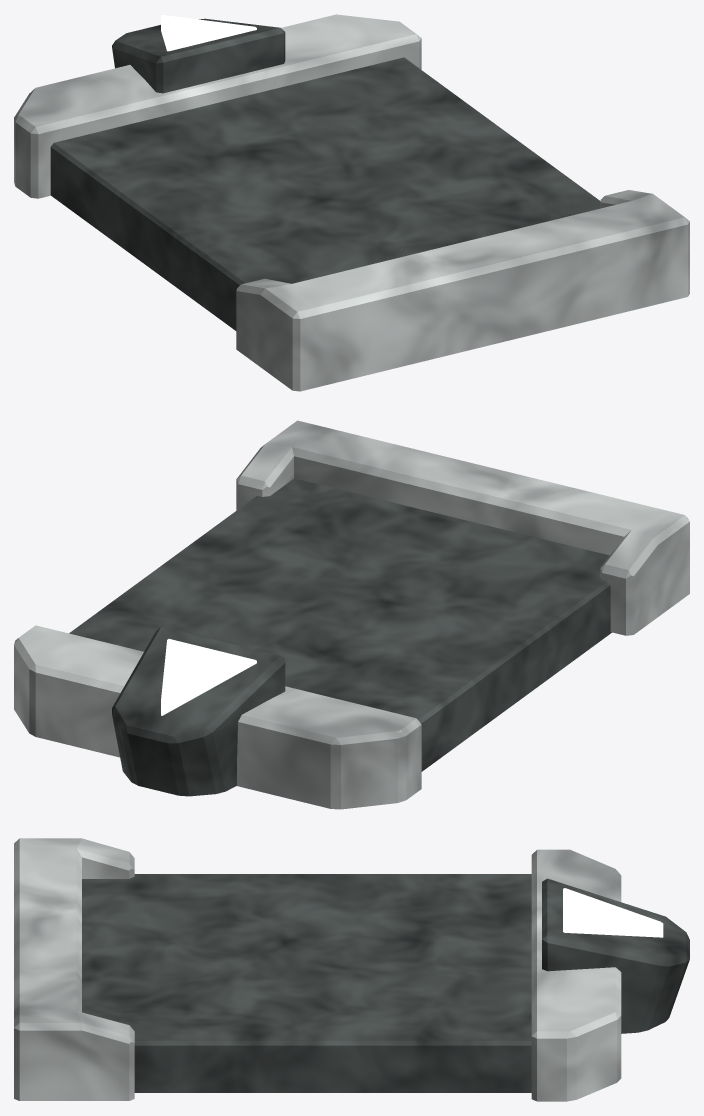
The model's file is white_baseplate.glb.
The picture shows the model from 3 angles, top to bottom: view 1: azimuth 30°, elevation 25°; view 2: azimuth 150°, elevation 25°; view 3: azimuth 270°, elevation 25°; orthographic projection. The views are drawn at different scales.
Visible parts, largest first — view 1: WhitePlate; view 2: WhitePlate; view 3: WhitePlate.
Boxes of the visible parts, x1,y1,x2,y2 form: WhitePlate: (14, 14, 689, 391); WhitePlate: (14, 420, 689, 809); WhitePlate: (14, 838, 689, 1101).
Bounding box in the file's own units: 0.9761 × 0.2441 × 1.47.
Materials: 1 (1 with a texture image).
